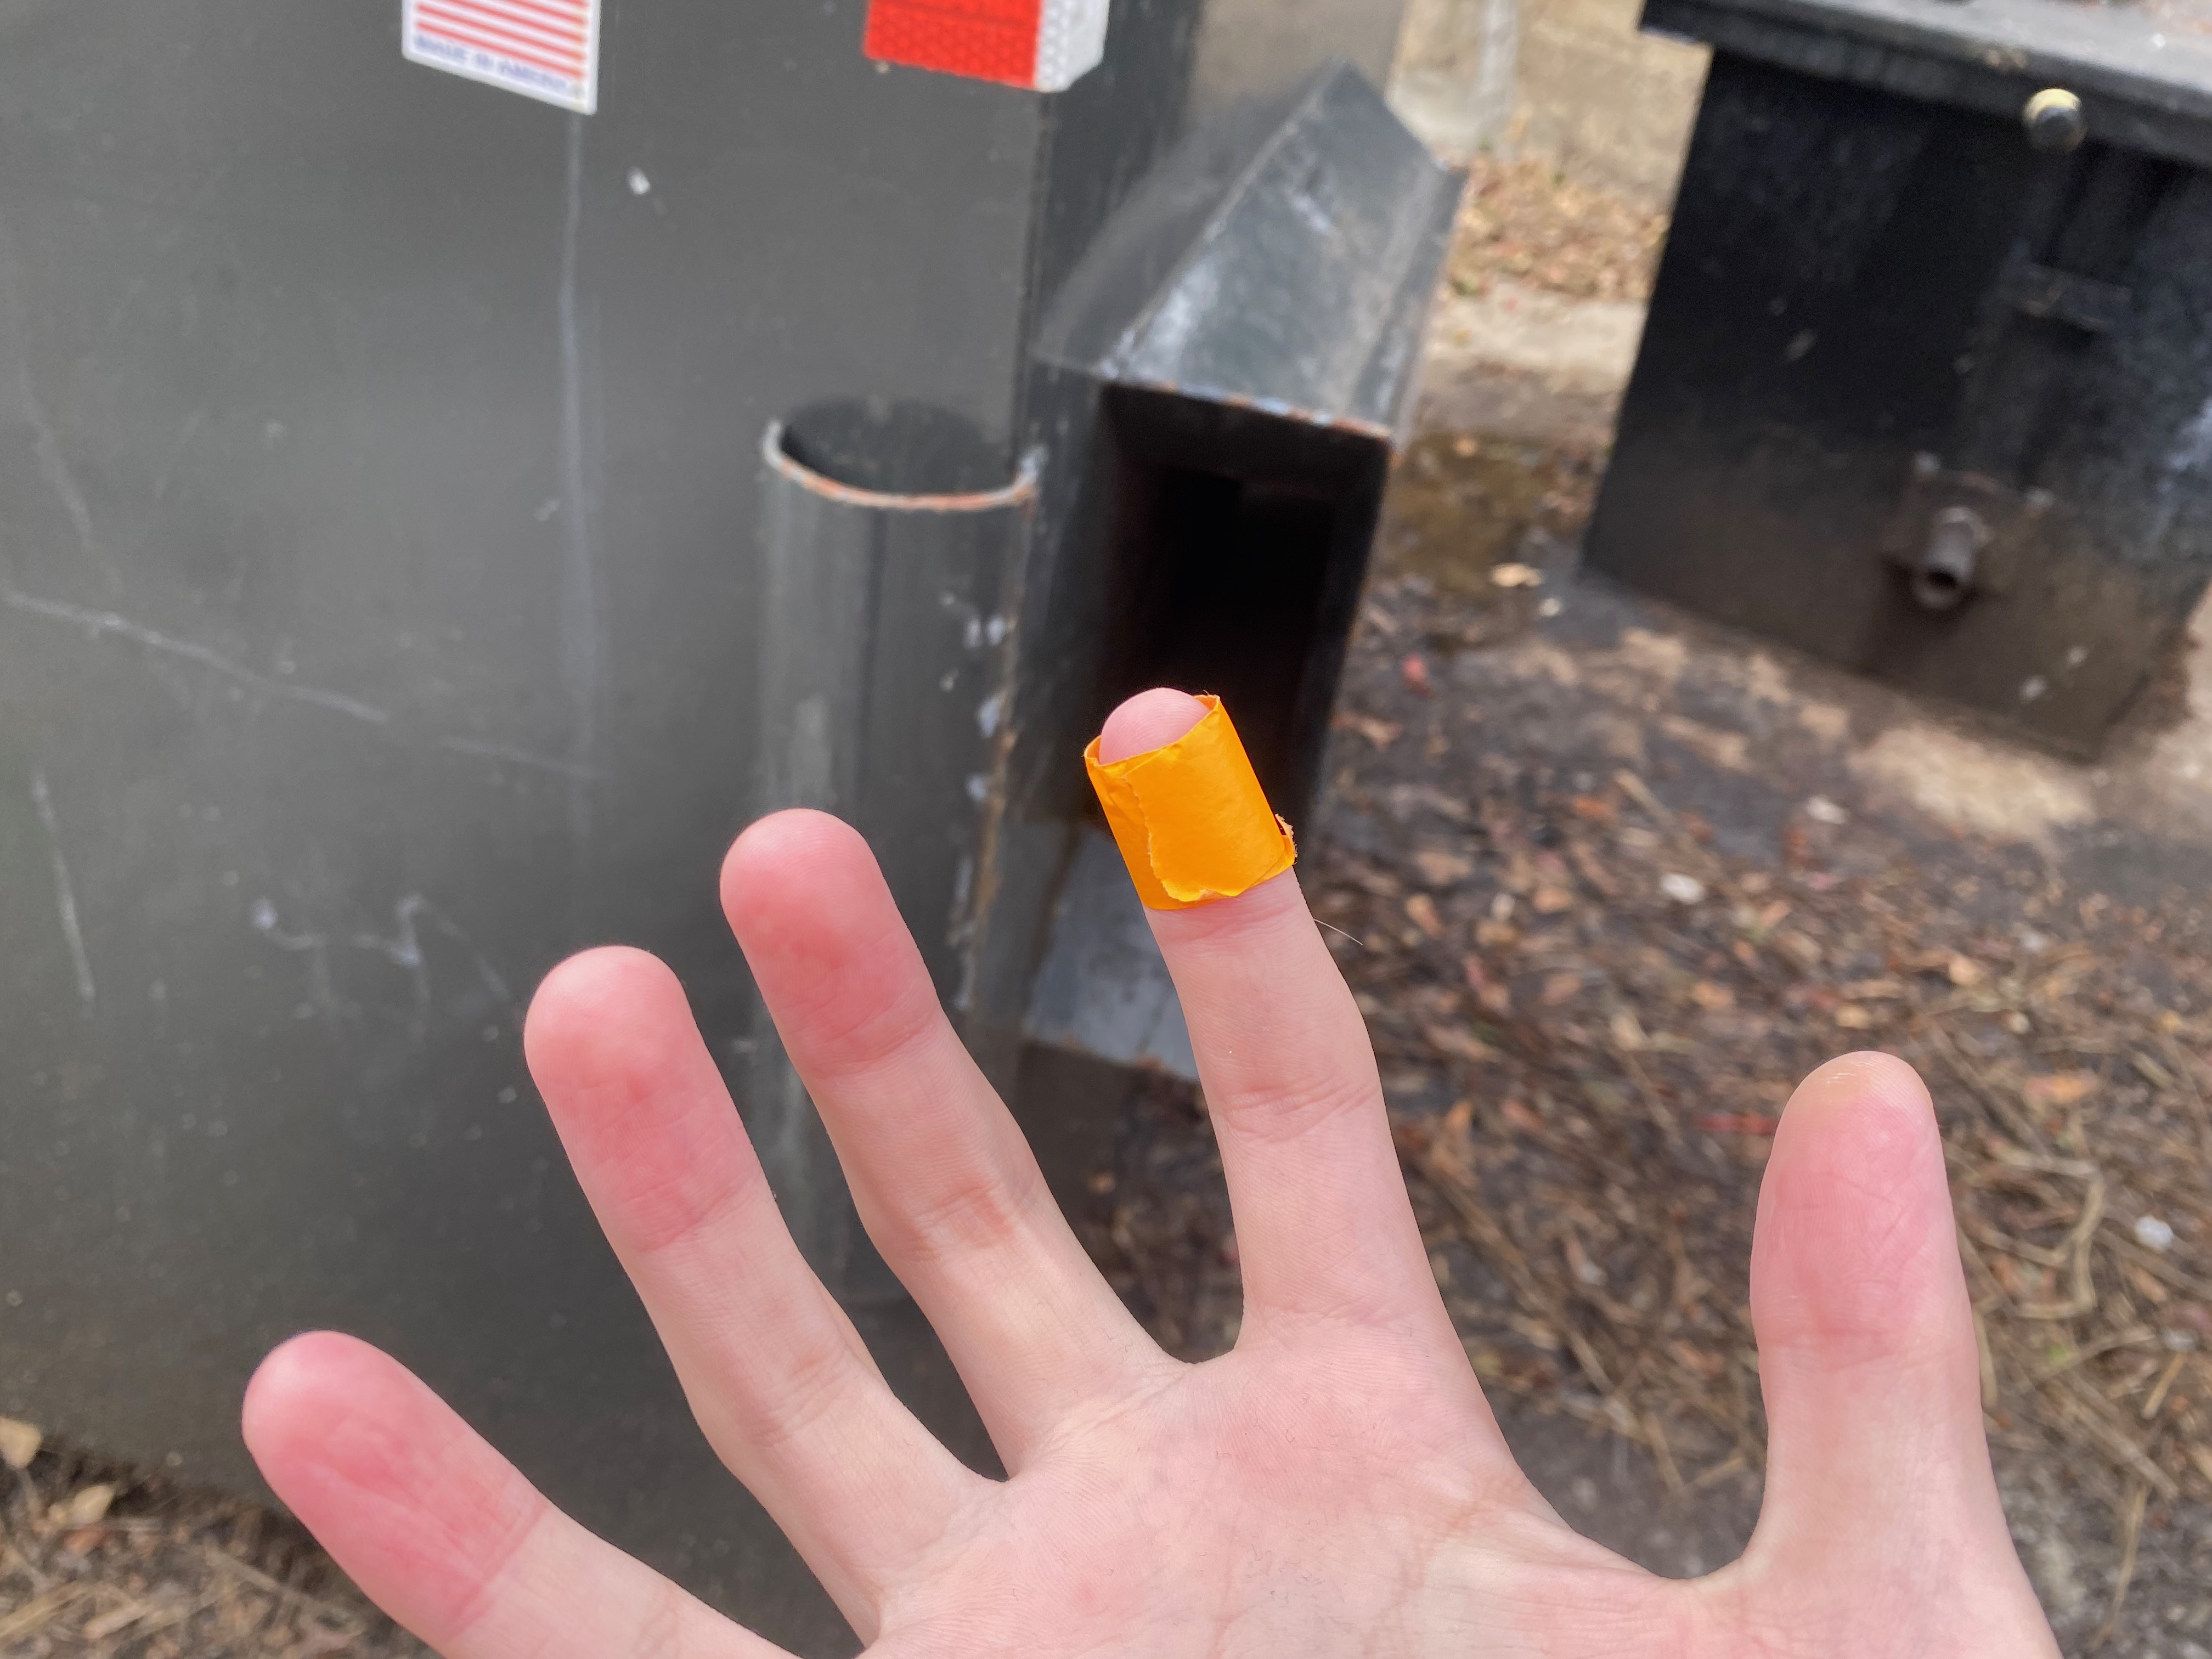fingertip: (1092, 674, 1299, 941)
